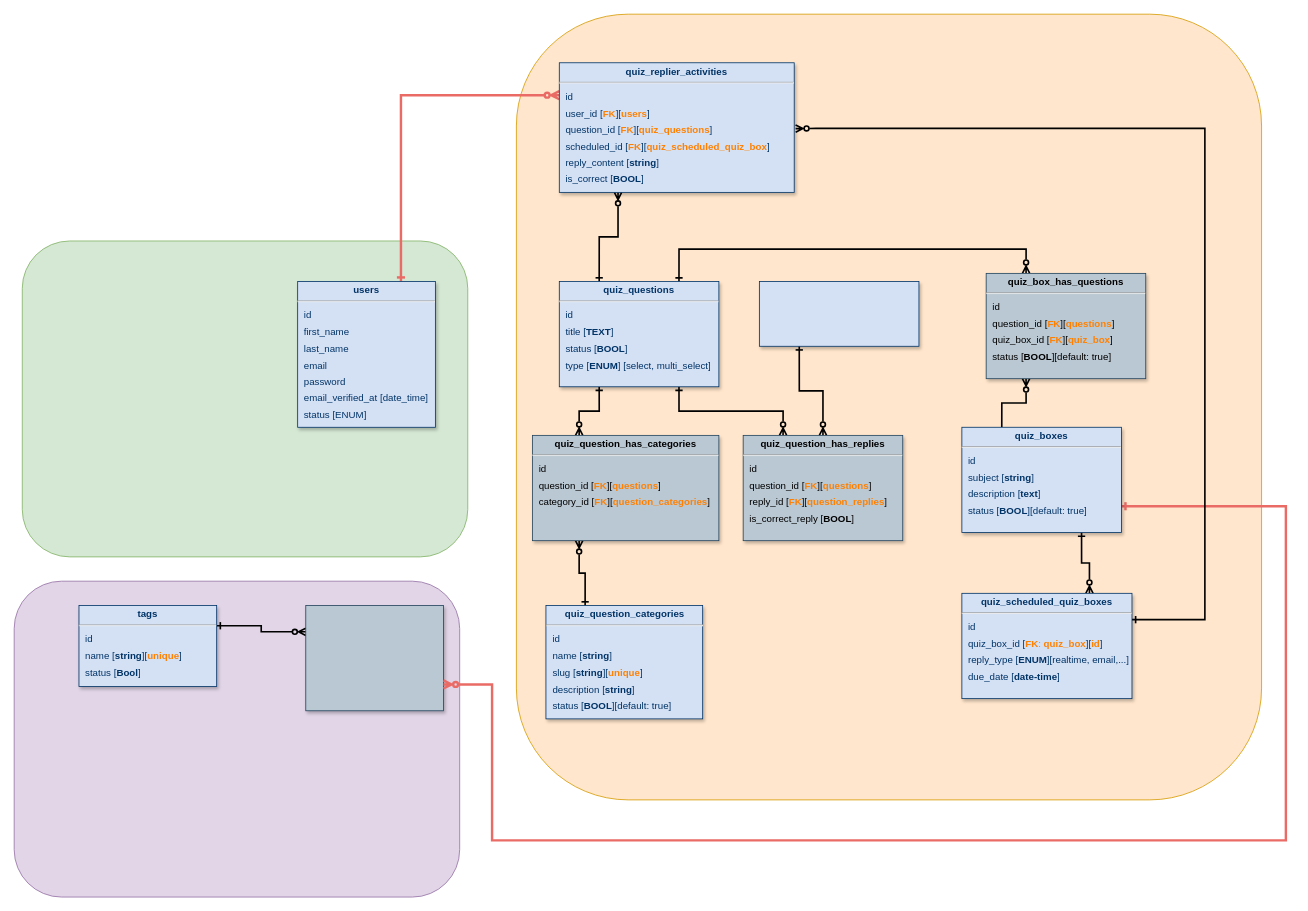
Some shapes in this 1308 by 911 pixel diagram are drawn without their labels. The shapes that lost their labels are listed below. From the top down, each one's centre as x and y in pixels, then its label:
(839,314): quiz_question_replies id content
(375,658): tag_has_items id tag_id [ FK ][ id ] item_type [ morph ] item_id [ morph ]
